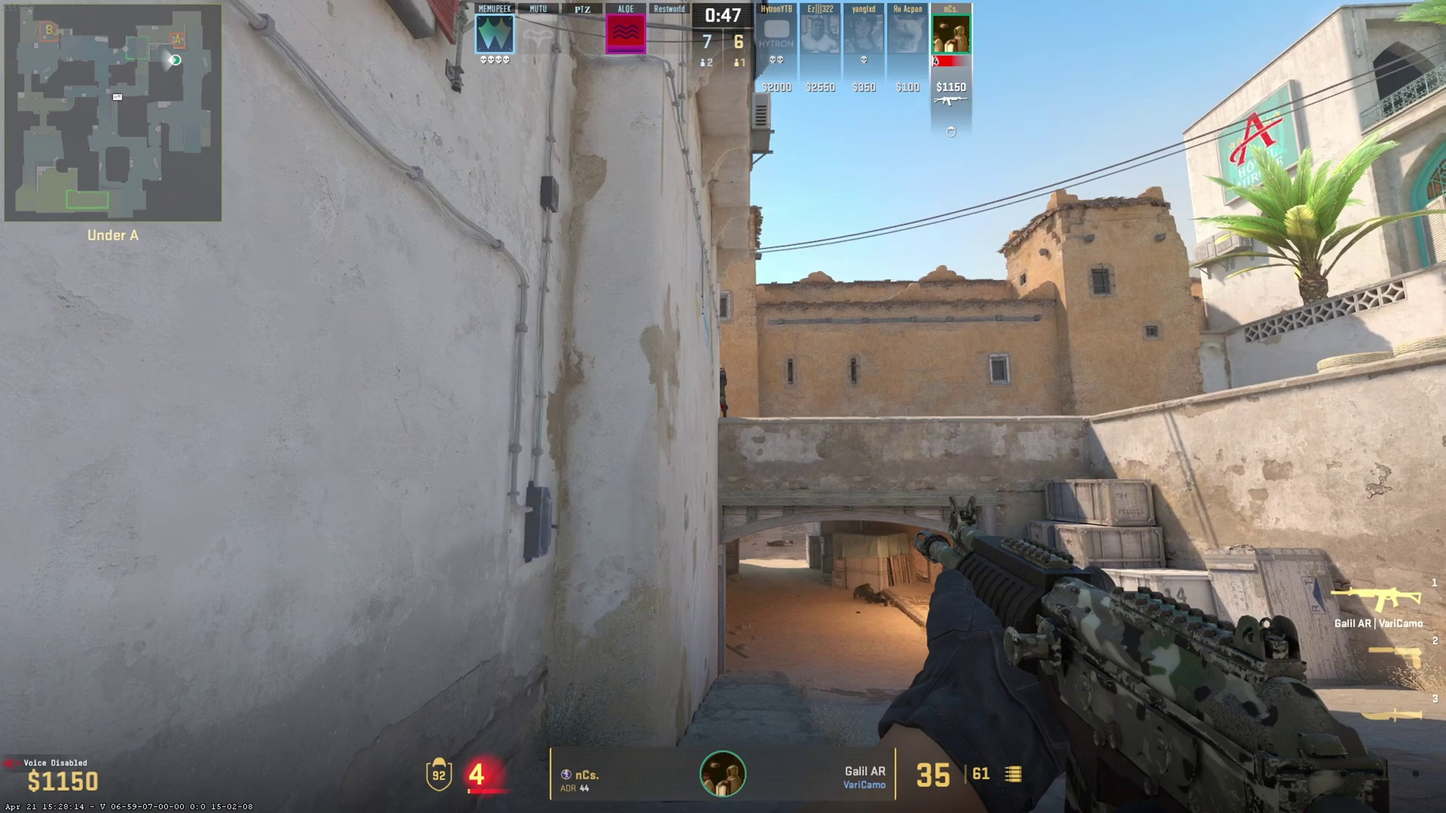CT: (720, 366, 729, 417)
